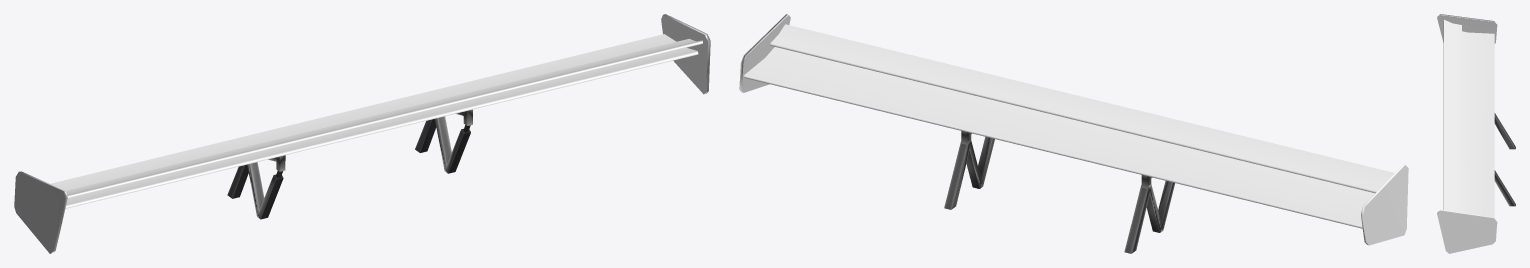
Rendered from spl_b_bbb_m.glb.
3 renders of one model, left to right at view 1: azimuth 30°, elevation 25°; view 2: azimuth 150°, elevation 25°; view 3: azimuth 270°, elevation 25°, orthographic. The views are drawn at different scales.
Parts seen in each view (by area): view 1: spl_b_bbb_m; view 2: spl_b_bbb_m; view 3: spl_b_bbb_m.
Boxes of the visible parts, bbox=[...] form: spl_b_bbb_m: bbox=[14, 14, 710, 253]; spl_b_bbb_m: bbox=[739, 14, 1408, 253]; spl_b_bbb_m: bbox=[1437, 14, 1515, 253].
Size of the model in its own units: 2 by 0.2998 by 0.3332.
Materials: 2 (2 with a texture image).
